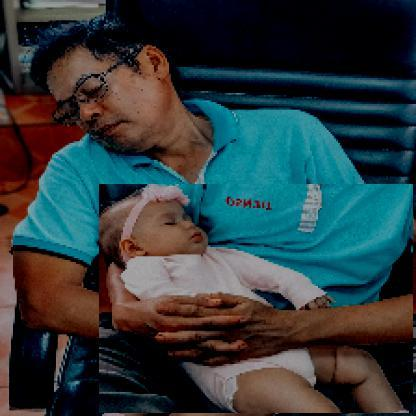child: (100, 185, 415, 415)
